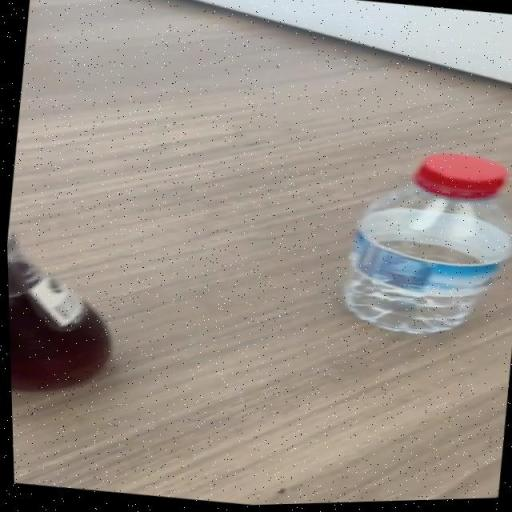plastic: (340, 155, 509, 341)
